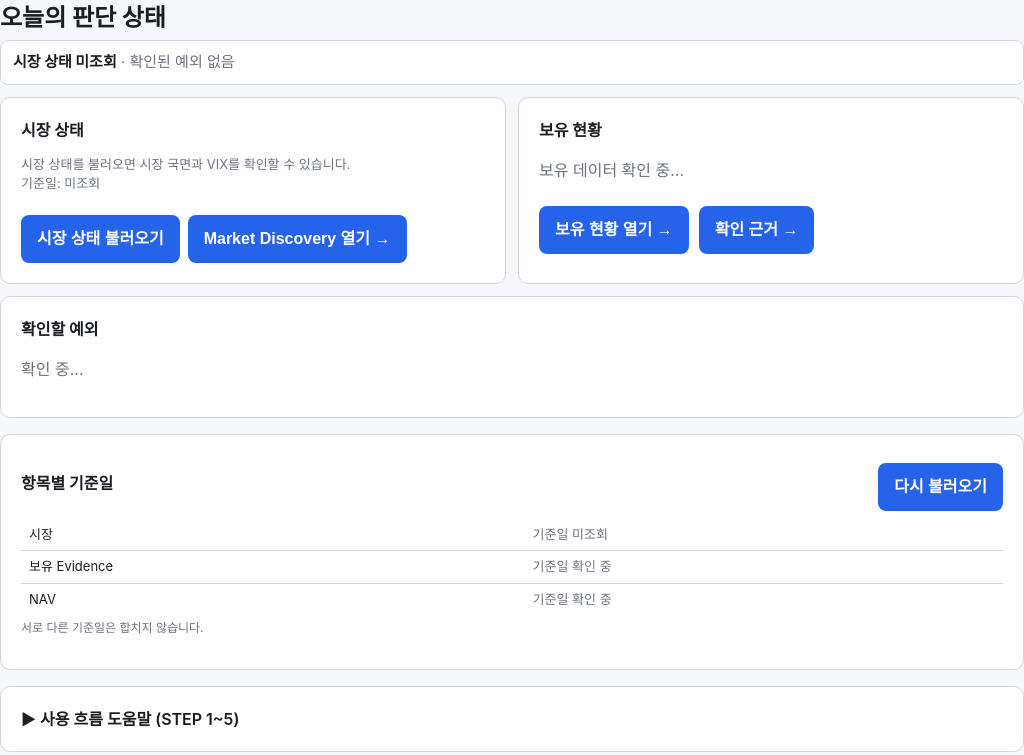
it: DashboardView — VIX 최신성 (POC5-12) › fresh: 예외 · 카드 안내 모두 없음
Click the button "시장 상태 불러오기" at x=100, y=238, box [21, 214, 180, 262]
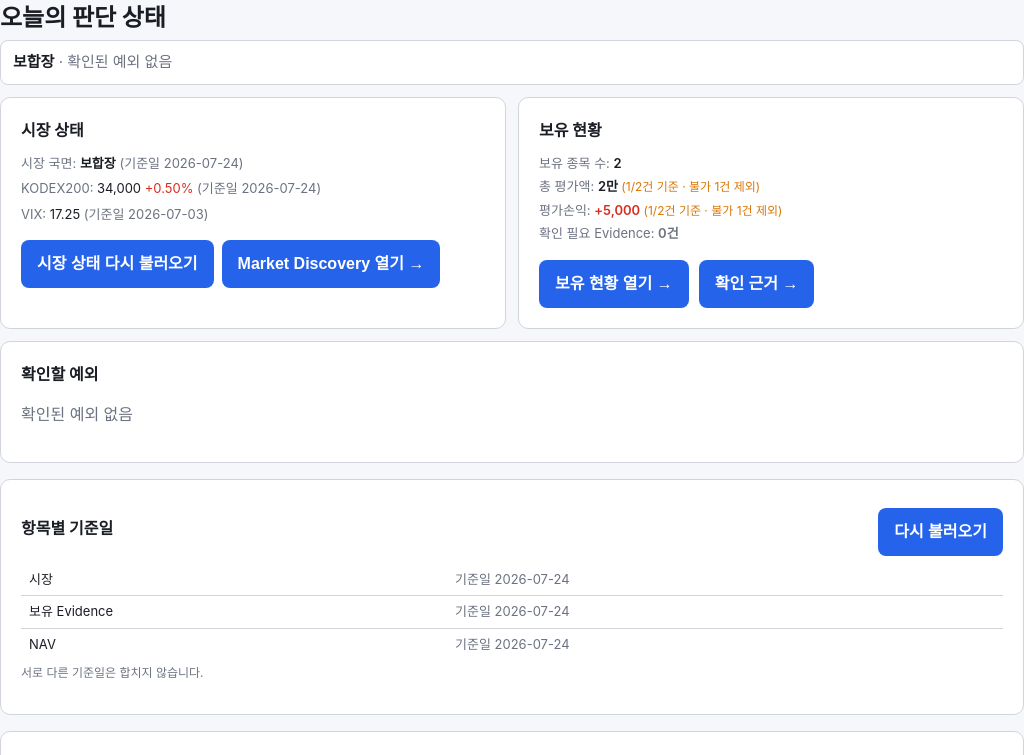
Now the text "시장 상태" shows "17.25", box [50, 206, 80, 222]
